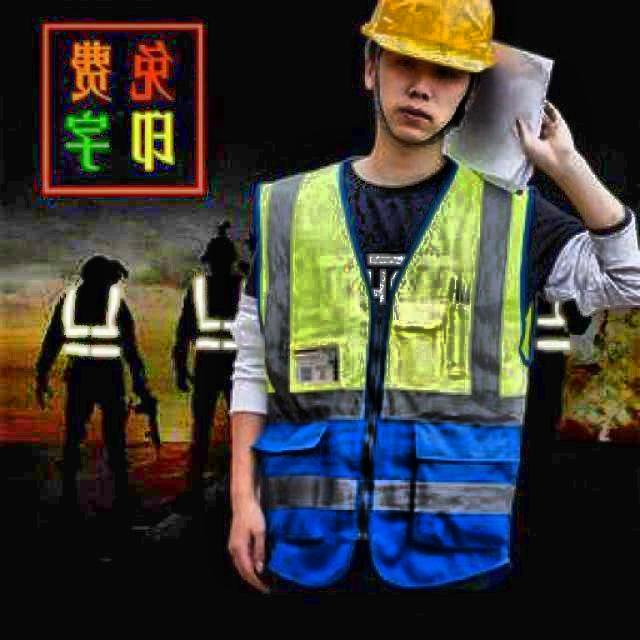safety_jacket: (258, 160, 532, 433)
